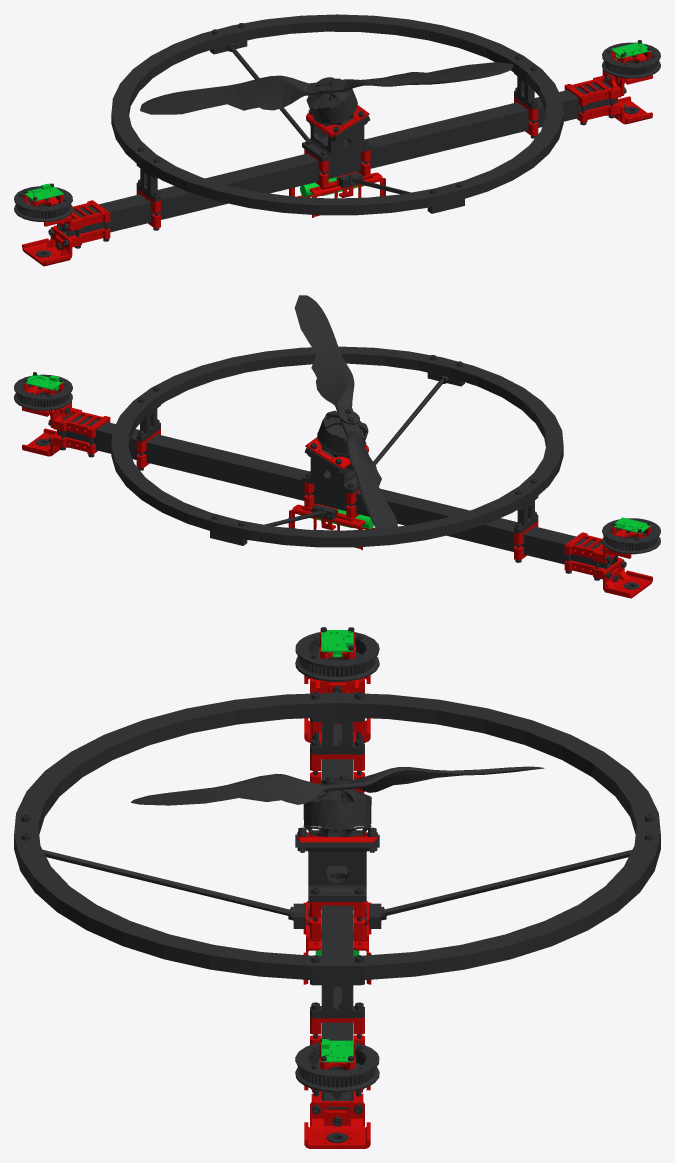
Rendered from tilt_link2.dae.
The picture shows the model from 3 angles, top to bottom: view 1: azimuth 30°, elevation 25°; view 2: azimuth 150°, elevation 25°; view 3: azimuth 270°, elevation 25°; orthographic projection. The views are drawn at different scales.
Visible parts, largest first — view 1: tilt_link2_black_part, tilt_link2_red_part, link2_green_part; view 2: tilt_link2_black_part, tilt_link2_red_part, link2_green_part; view 3: tilt_link2_black_part, tilt_link2_red_part, link2_green_part.
Boxes of the visible parts, <box> form: tilt_link2_black_part: <box>14,14,660,257</box>; tilt_link2_red_part: <box>22,50,652,266</box>; link2_green_part: <box>23,42,651,201</box>; tilt_link2_black_part: <box>14,295,660,589</box>; tilt_link2_red_part: <box>22,382,652,598</box>; link2_green_part: <box>23,374,651,533</box>; tilt_link2_black_part: <box>14,627,660,1142</box>; tilt_link2_red_part: <box>297,631,377,1148</box>; link2_green_part: <box>315,630,359,1062</box>.
Bounding box in the file's own units: 0.6521 × 0.3997 × 0.1563.
